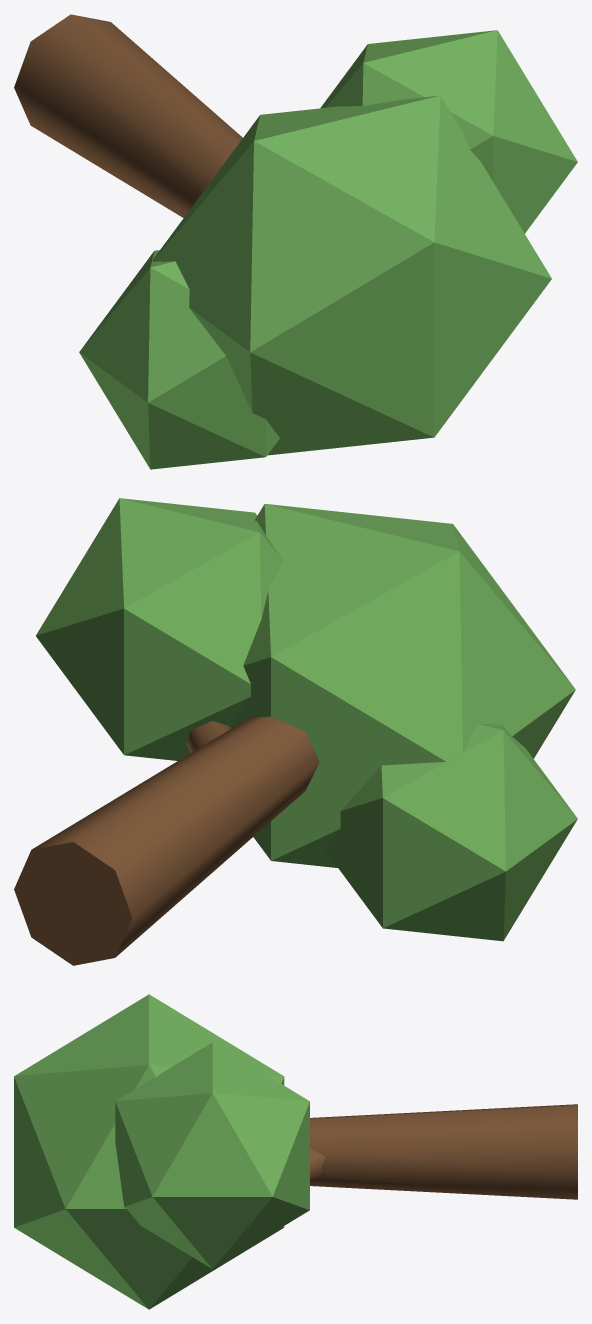
Rendered from tree.glb.
3 views of the same model, one above another, from view 1: azimuth 30°, elevation 25°; view 2: azimuth 150°, elevation 25°; view 3: azimuth 270°, elevation 25° (orthographic). The views are drawn at different scales.
Parts seen in each view (by area): view 1: Crown, Trunk; view 2: Crown, Trunk; view 3: Crown, Trunk.
Boxes of the visible parts, x1,y1,x2,y2 form: Crown: (79,30,577,469); Trunk: (14,14,242,217); Crown: (36,498,577,941); Trunk: (14,716,319,965); Crown: (14,994,309,1309); Trunk: (310,1104,577,1199).
Bounding box in the file's own units: 1.23 × 0.9284 × 1.78.
